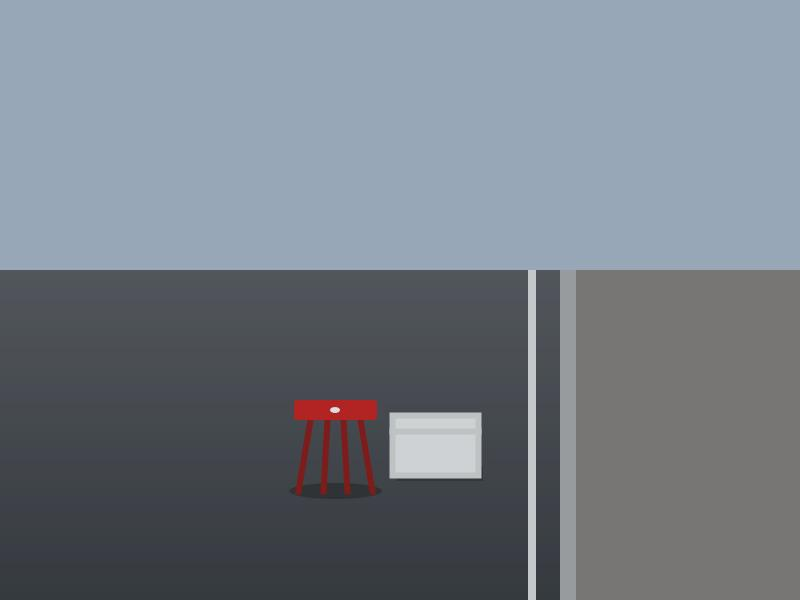ROAD_OBSTACLE: (294, 400, 377, 491), (392, 415, 478, 475)
